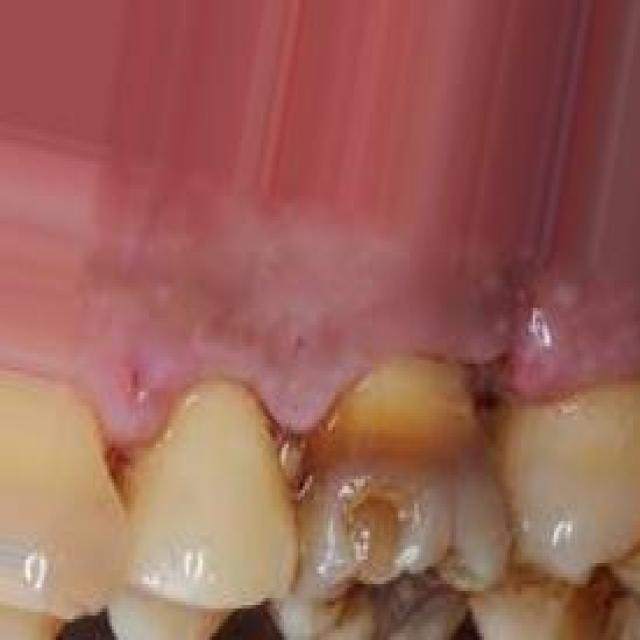caries: (318, 474, 448, 630)
